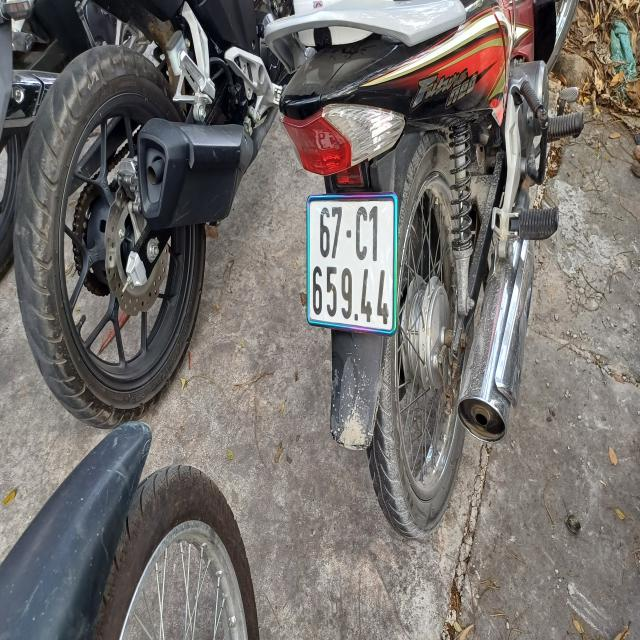1: (368, 205, 379, 262)
4: (360, 269, 374, 323), (376, 270, 389, 324)
5: (324, 265, 338, 317)
6: (319, 207, 330, 258), (313, 267, 324, 314)
7: (332, 208, 342, 257)
9: (341, 268, 353, 319)
C: (355, 207, 369, 262)
